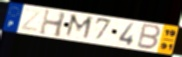4: (117, 22, 135, 47)
7: (94, 16, 114, 43)
B: (135, 23, 163, 51)
H: (38, 8, 68, 38)
M: (63, 13, 95, 42)
Z: (18, 7, 44, 34)
